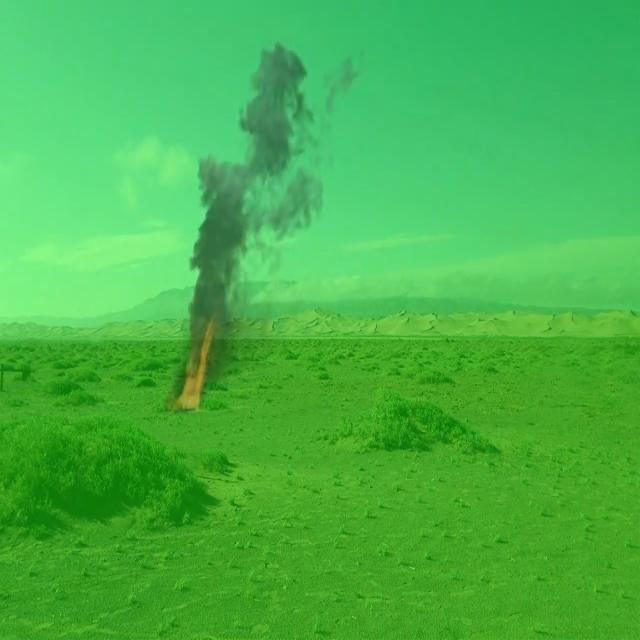Fire: (175, 334, 214, 414)
Smoke: (198, 45, 324, 326)
